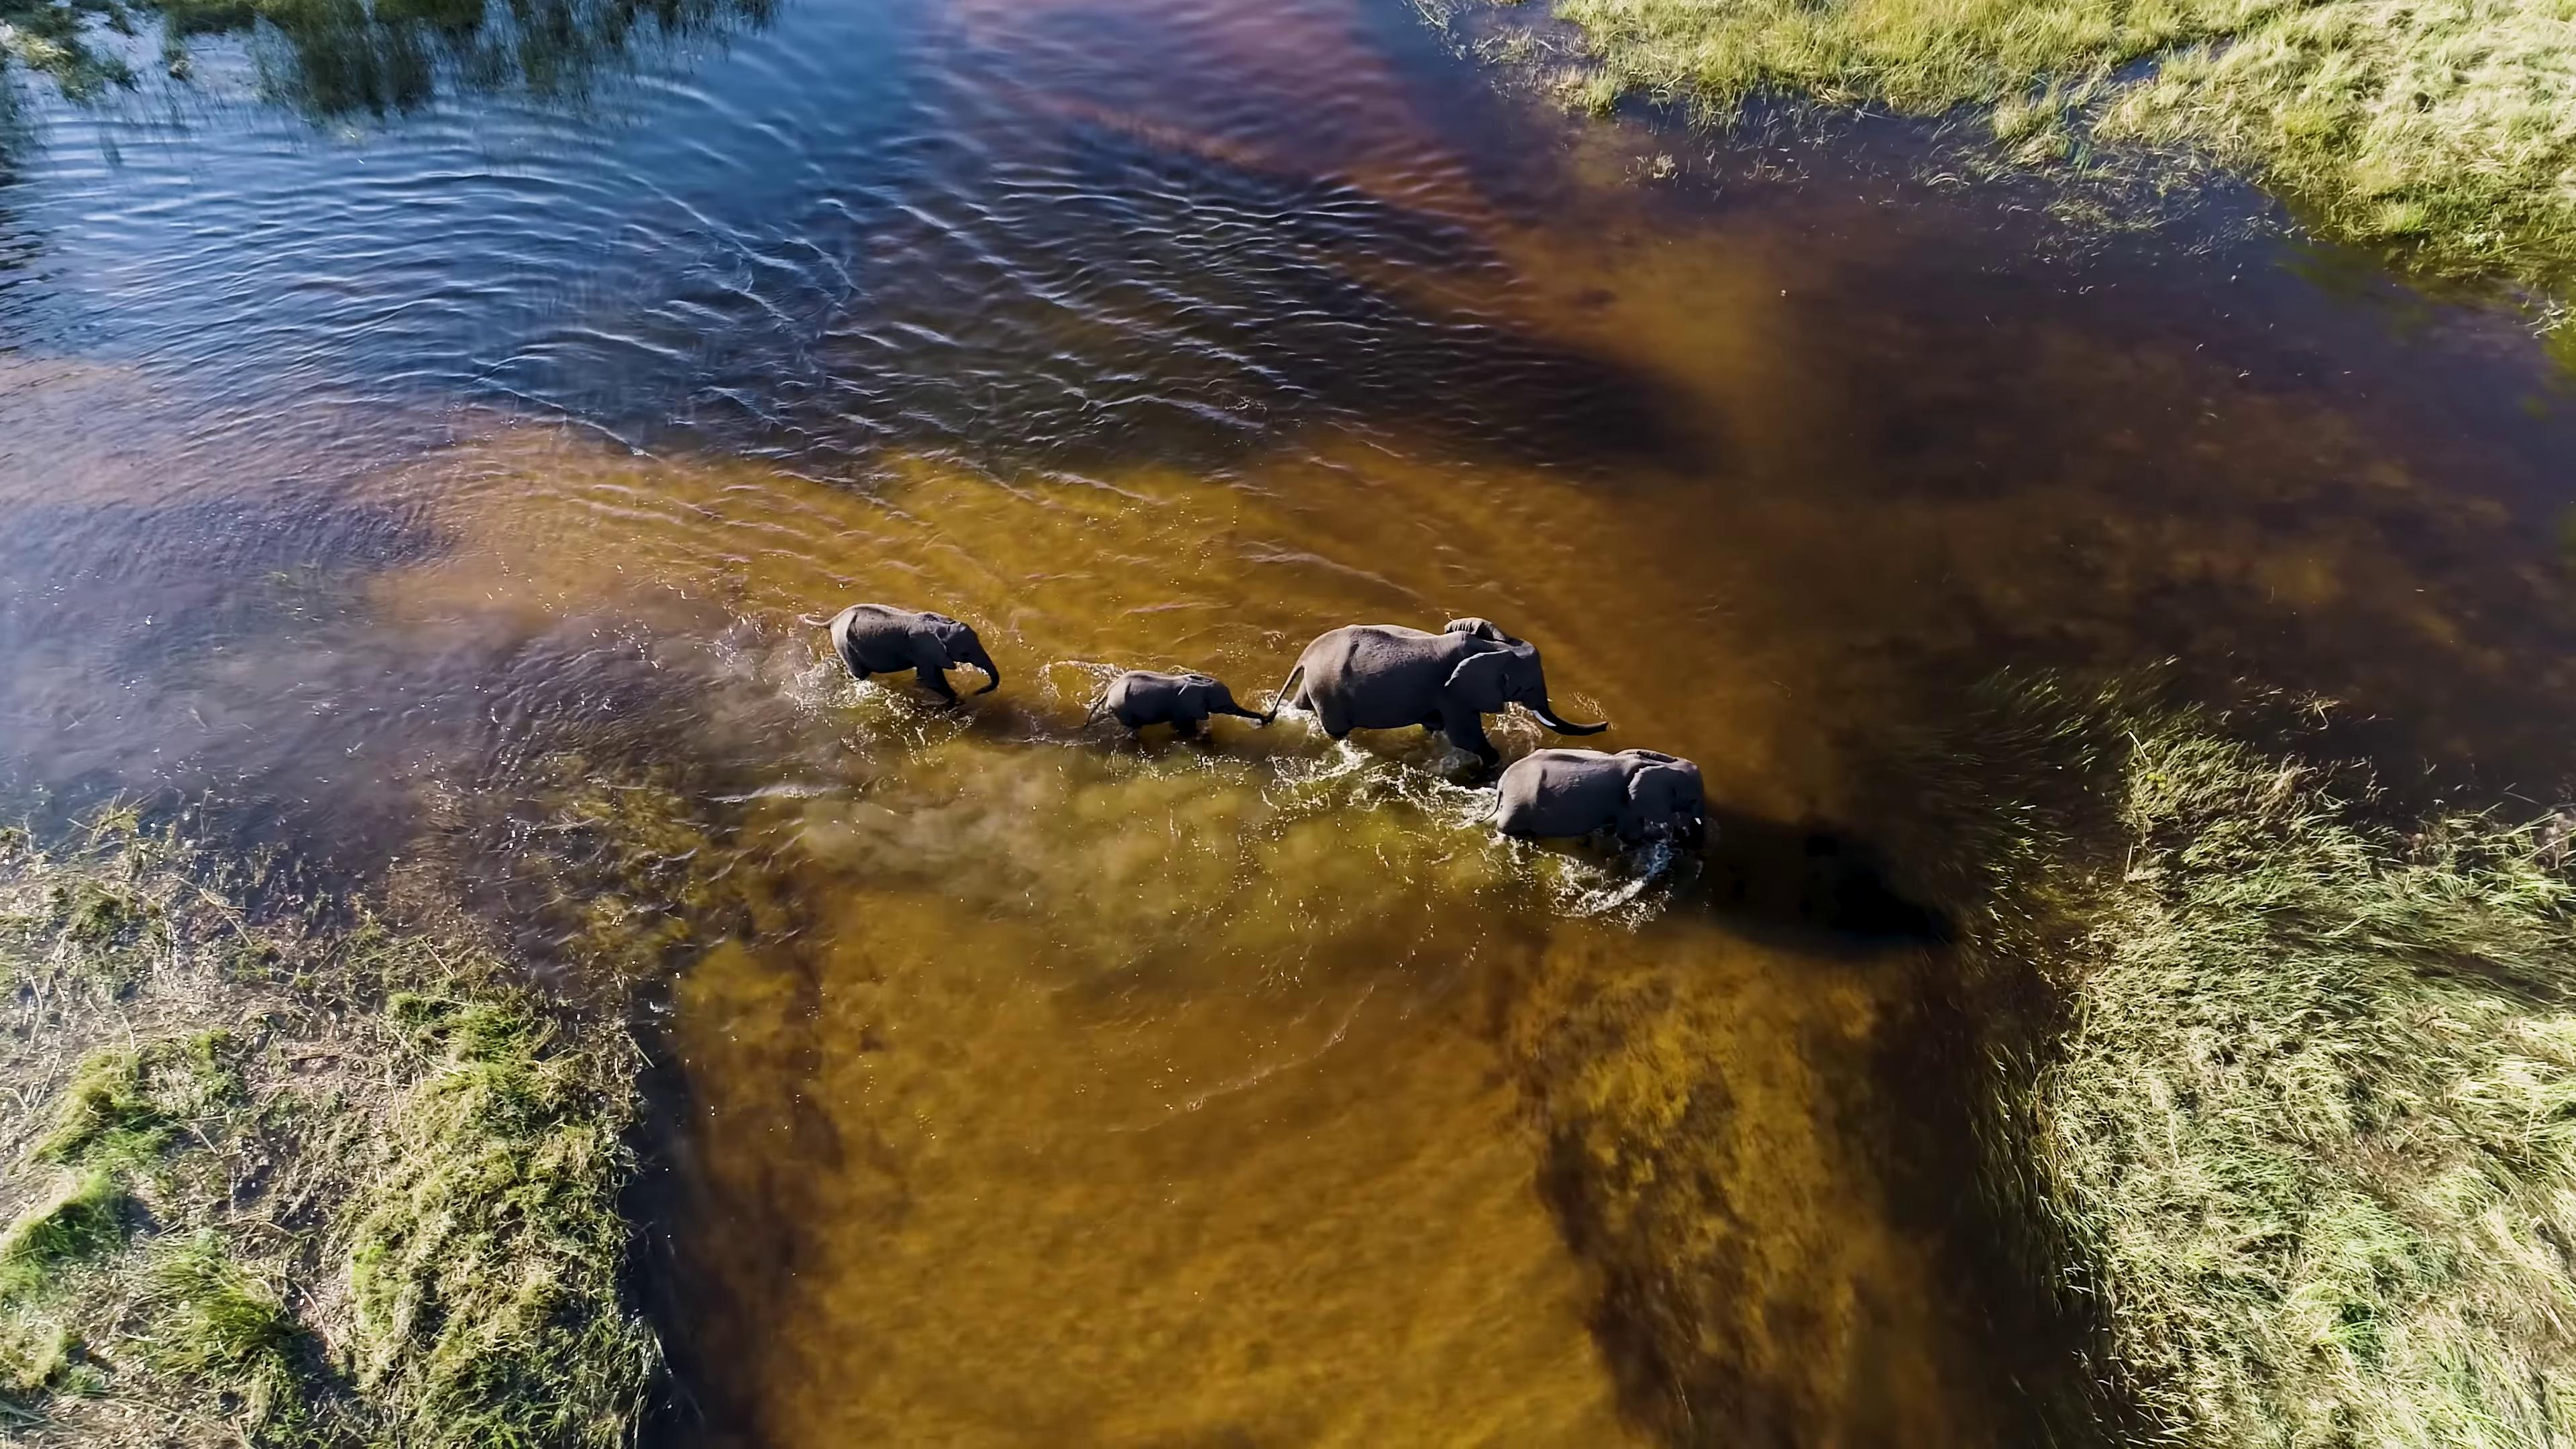elephant: (1265, 607, 1617, 782), (1474, 732, 1727, 869), (794, 591, 1012, 727), (1079, 662, 1270, 757)
